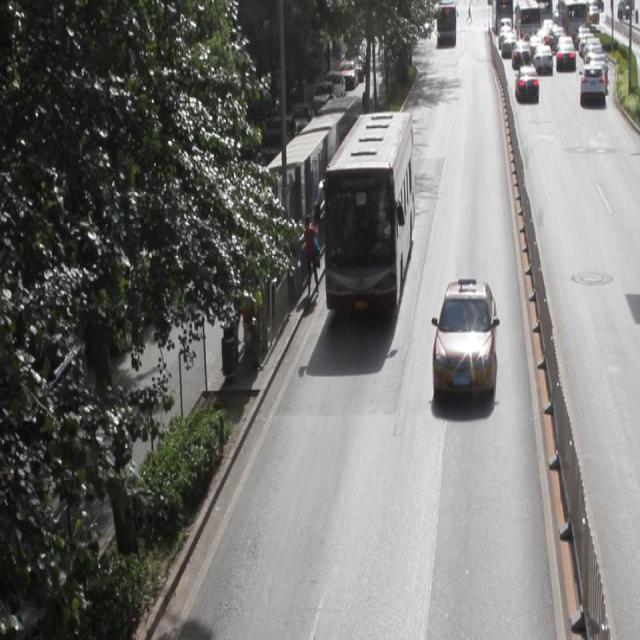car: (432, 279, 495, 397)
van: (324, 110, 412, 311)
